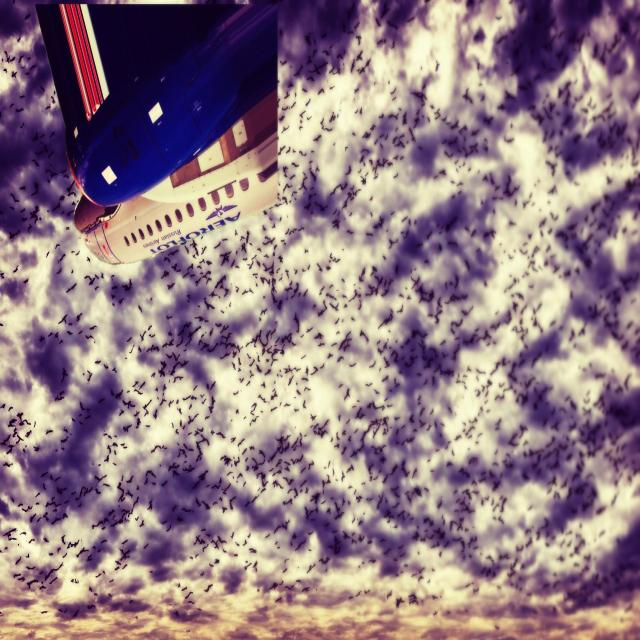airplane: (34, 0, 278, 265)
